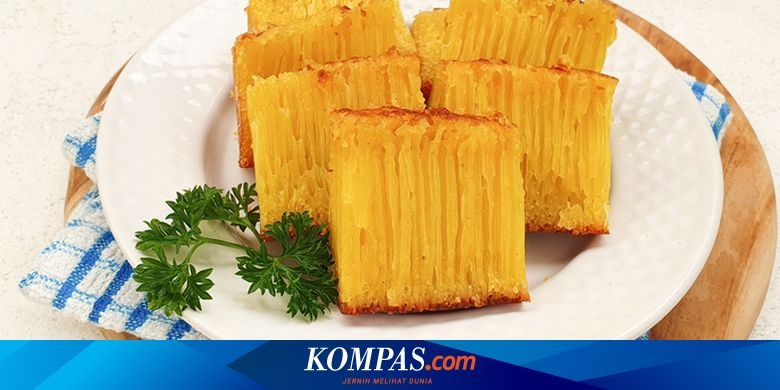bika_ambon: (324, 102, 539, 318)
